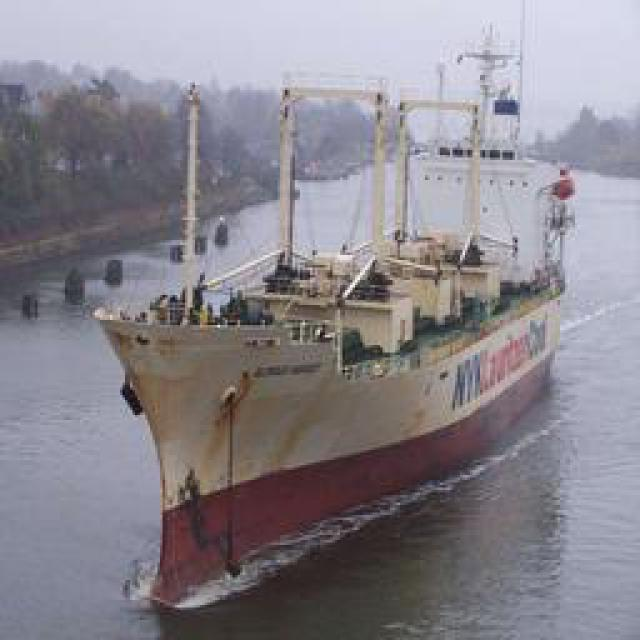Ship: (89, 70, 574, 603)
